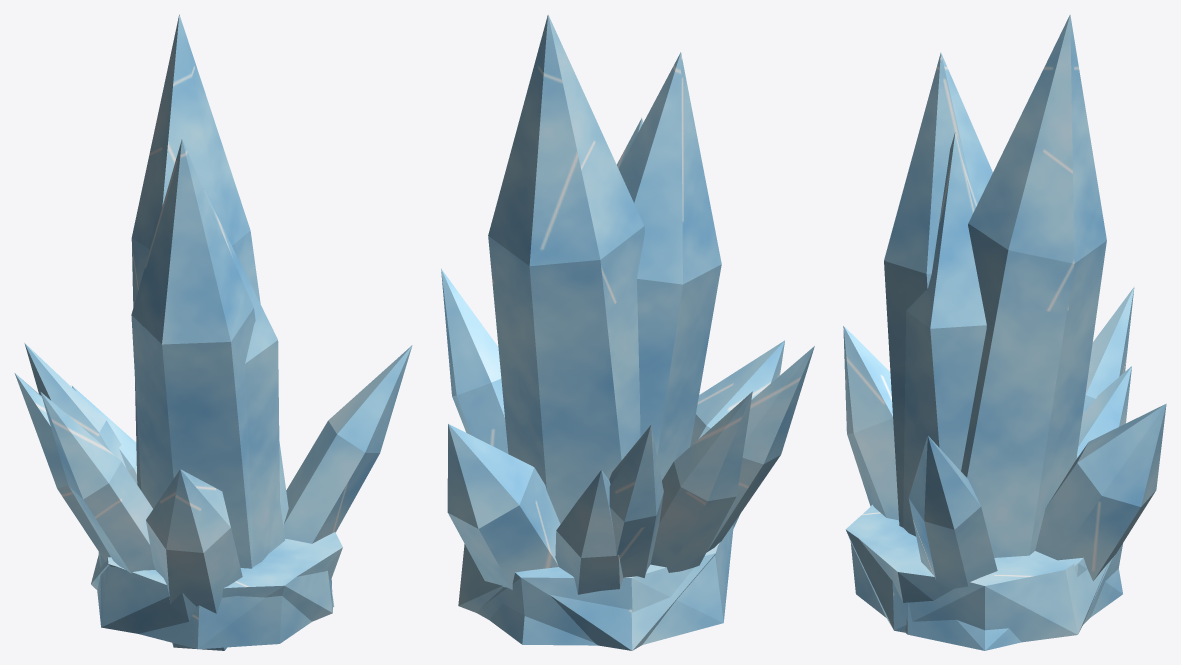
The model's file is IceSpikes.fbx.
The picture shows the model from 3 angles, left to right: view 1: azimuth 30°, elevation 25°; view 2: azimuth 150°, elevation 25°; view 3: azimuth 270°, elevation 25°; orthographic projection. The views are drawn at different scales.
Visible parts, largest first — view 1: IceSpikeC, IceSpikeA, IceSpikeB; view 2: IceSpikeA, IceSpikeC, IceSpikeB; view 3: IceSpikeA, IceSpikeB, IceSpikeC.
Part boxes in pixels (left/top/right/bottom): IceSpikeC: left=24, top=139, right=412, bottom=649; IceSpikeA: left=14, top=14, right=332, bottom=621; IceSpikeB: left=72, top=188, right=342, bottom=650; IceSpikeA: left=458, top=14, right=814, bottom=650; IceSpikeC: left=441, top=52, right=721, bottom=645; IceSpikeB: left=447, top=118, right=784, bottom=644; IceSpikeA: left=845, top=14, right=1108, bottom=642; IceSpikeB: left=843, top=131, right=1166, bottom=624; IceSpikeC: left=850, top=52, right=1134, bottom=650.
Bounding box in the file's own units: 2.41 × 3.68 × 1.81.
1 material, 1 textured.
